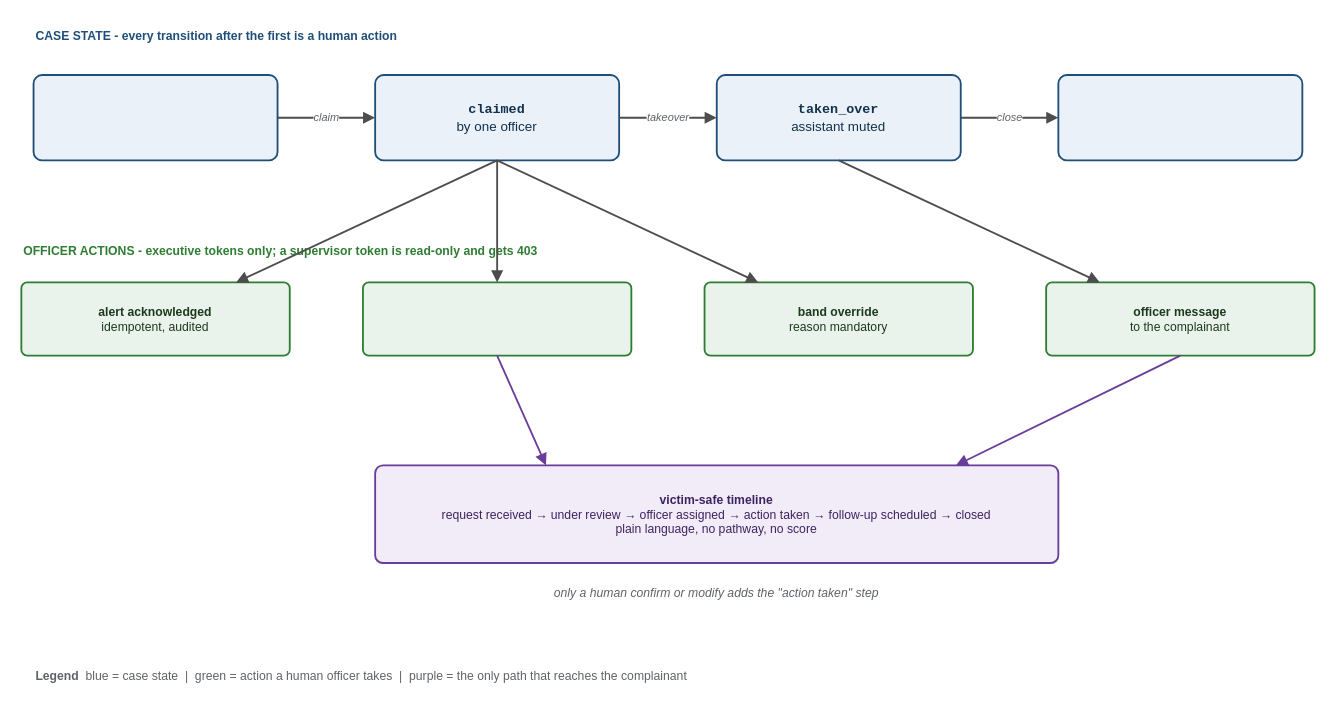
This 1337x710 diagram has some shape labels left out. Here are the shapes that lost their labels. From the top down, the centre of each, then its label:
At point (155, 117): "open in the queue".
At point (1180, 117): "closed".
At point (496, 318): "confirm / modify / reject each recommendation".
